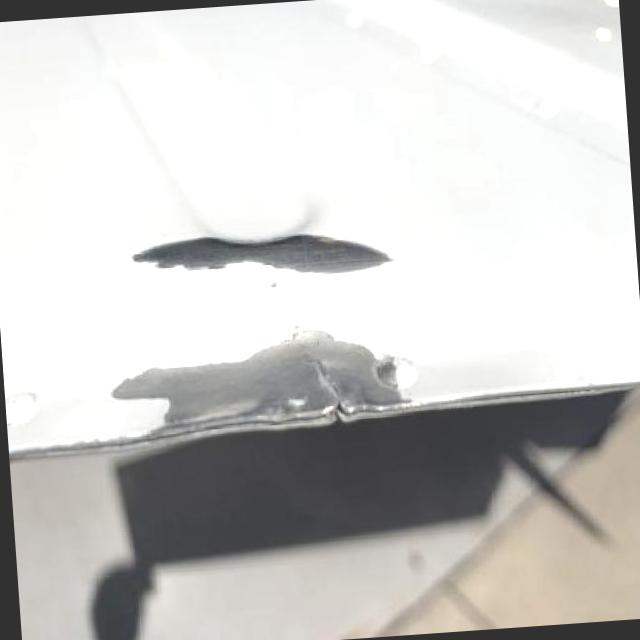crack: (297, 346, 355, 431)
